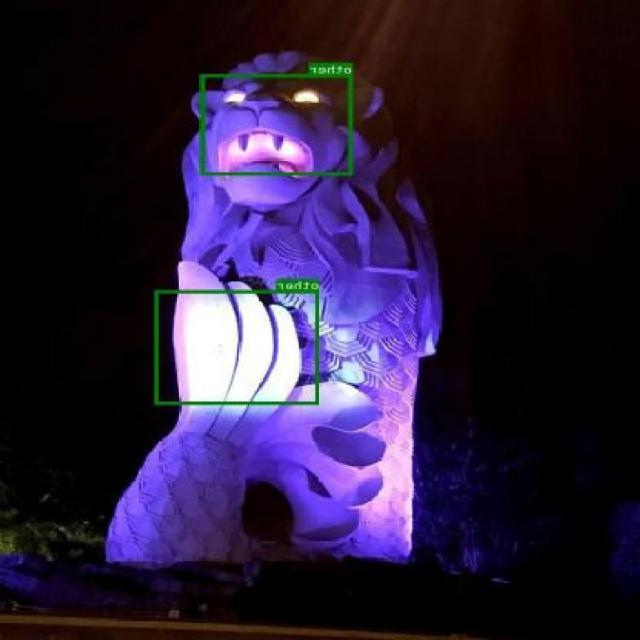other: (154, 290, 320, 404), (202, 74, 353, 175)
